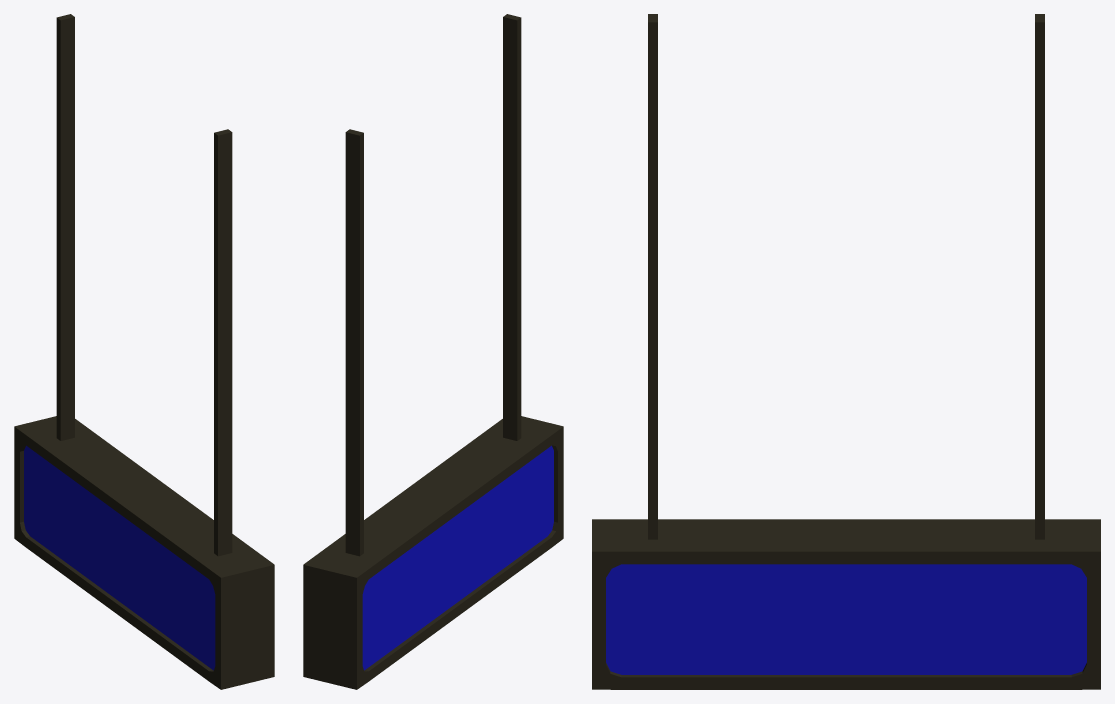
File: DestinationSignFromUp.obj
The picture shows the model from 3 angles, left to right: view 1: azimuth 30°, elevation 25°; view 2: azimuth 150°, elevation 25°; view 3: azimuth 270°, elevation 25°; orthographic projection. The views are drawn at different scales.
Parts seen in each view (by area): view 1: Cube_Cube.001; view 2: Cube_Cube.001; view 3: Cube_Cube.001.
Boxes of the visible parts, x1,y1,x2,y2 form: Cube_Cube.001: (14,14,274,689); Cube_Cube.001: (303,14,563,689); Cube_Cube.001: (592,14,1100,689).
Size of the model in its own units: 0.3 by 2.84 by 2.
